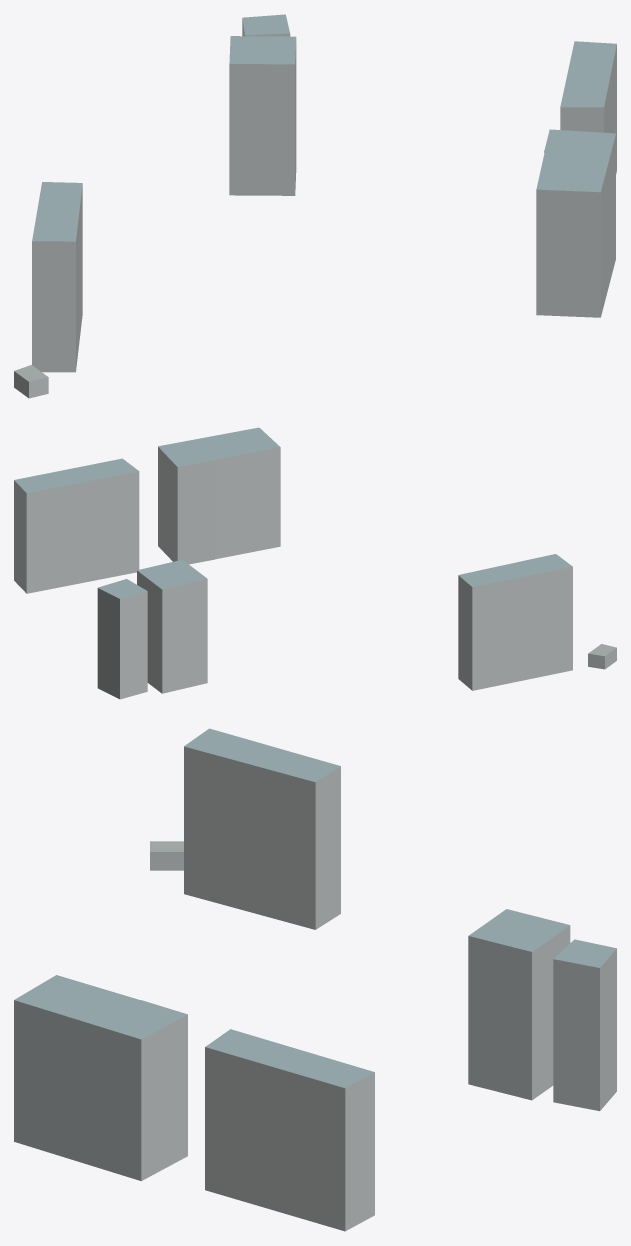
File: far.glb
3 views of the same model, one above another, from view 1: azimuth 30°, elevation 25°; view 2: azimuth 150°, elevation 25°; view 3: azimuth 270°, elevation 25° (orthographic). The views are drawn at different scales.
Size of the model in its own units: 106 by 19.8 by 72.88.
